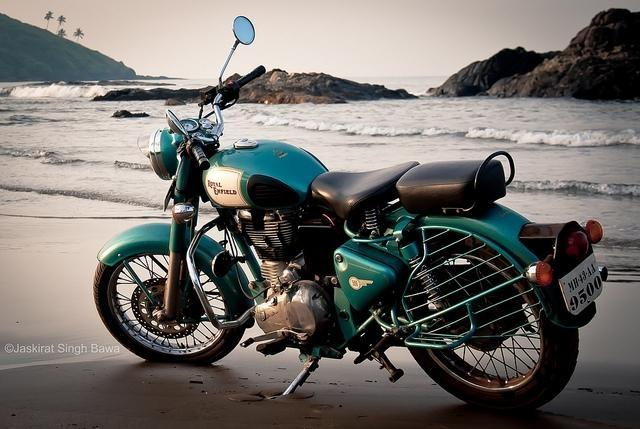motorcycle: (88, 11, 610, 420)
